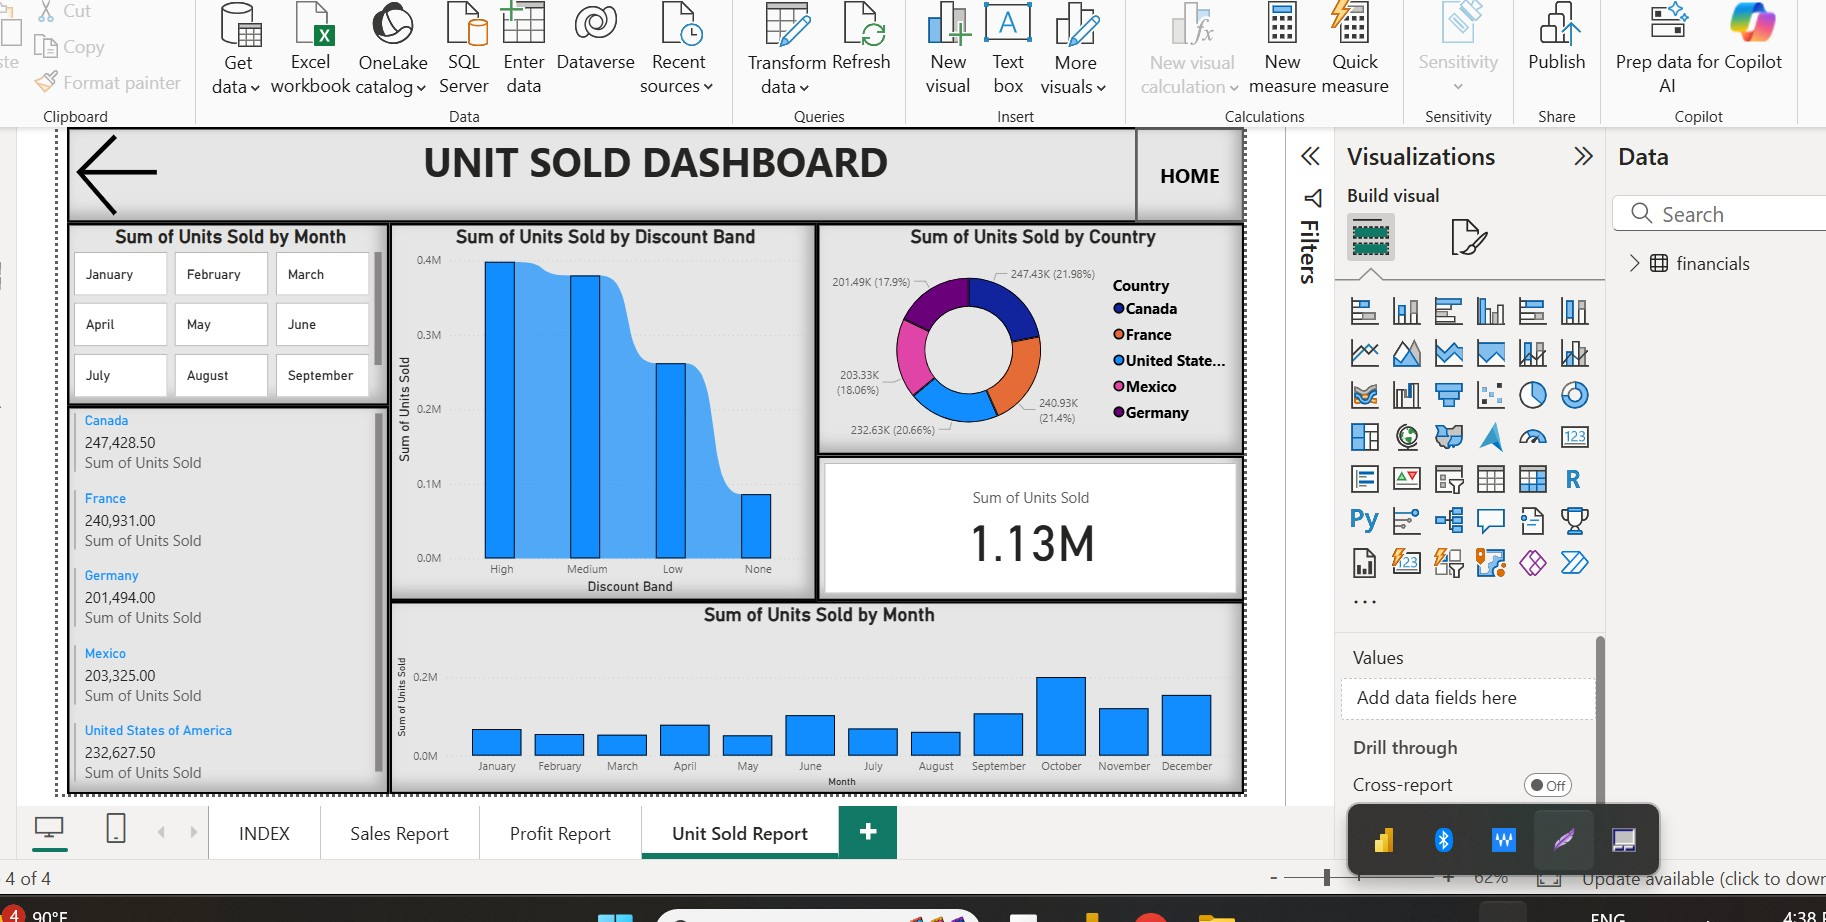

The page's visual inventory and layout, read from the dashboard file:
{"tool":"powerbi","page":{"name":"Unit Sold Report","canvas":[1280,720],"ordinal":3},"visuals":[{"type":"textbox","box":[9.7,0,1271.1,103.6],"z":0},{"type":"clusteredColumnChart","fields":{"Y":["Sum(financials.Units Sold)"],"Category":["financials.Date.Variation.Date Hierarchy.Month"]},"box":[357.8,511.7,923,208.9],"z":1000},{"type":"donutChart","fields":{"Category":["financials.Country"],"Y":["Sum(financials.Units Sold)"]},"box":[819.3,103.6,461.5,251],"z":2000},{"type":"multiRowCard","fields":{"Values":["financials.Country","Sum(financials.Units Sold)"]},"box":[9.7,301.2,348.1,419.4],"z":3000},{"type":"advancedSlicerVisual","fields":{"Values":["financials.Date.Variation.Date Hierarchy.Month"]},"box":[9.7,103.6,348.1,197.5],"z":4000},{"type":"ribbonChart","fields":{"Y":["Sum(financials.Units Sold)"],"Category":["financials.Discount Band"]},"box":[357.8,103.6,461.5,408],"z":5000},{"type":"cardVisual","fields":{"Data":["Sum(financials.Units Sold)"]},"box":[819.3,354.6,461.5,157.1],"z":6000},{"type":"actionButton","box":[9.7,0,110.1,103.6],"z":8000},{"type":"actionButton","box":[1162.6,0,118.2,103.6],"z":8001}]}

Visuals, with their boxes on the page's 1280x720 design canvas (x1, y1, x2, y2). These are canvas units, not pixel positions in the 1826x922 screenshot, which may show the page scaled, cropped or inside an application window:
textbox: bbox(10, 0, 1281, 104)
clusteredColumnChart - Sum(financials.Units Sold) x financials.Date.Variation.Date Hierarchy.Month: bbox(358, 512, 1281, 721)
donutChart - financials.Country x Sum(financials.Units Sold): bbox(819, 104, 1281, 355)
multiRowCard - financials.Country x Sum(financials.Units Sold): bbox(10, 301, 358, 721)
advancedSlicerVisual - financials.Date.Variation.Date Hierarchy.Month: bbox(10, 104, 358, 301)
ribbonChart - Sum(financials.Units Sold) x financials.Discount Band: bbox(358, 104, 819, 512)
cardVisual - Sum(financials.Units Sold): bbox(819, 355, 1281, 512)
actionButton: bbox(10, 0, 120, 104)
actionButton: bbox(1163, 0, 1281, 104)
